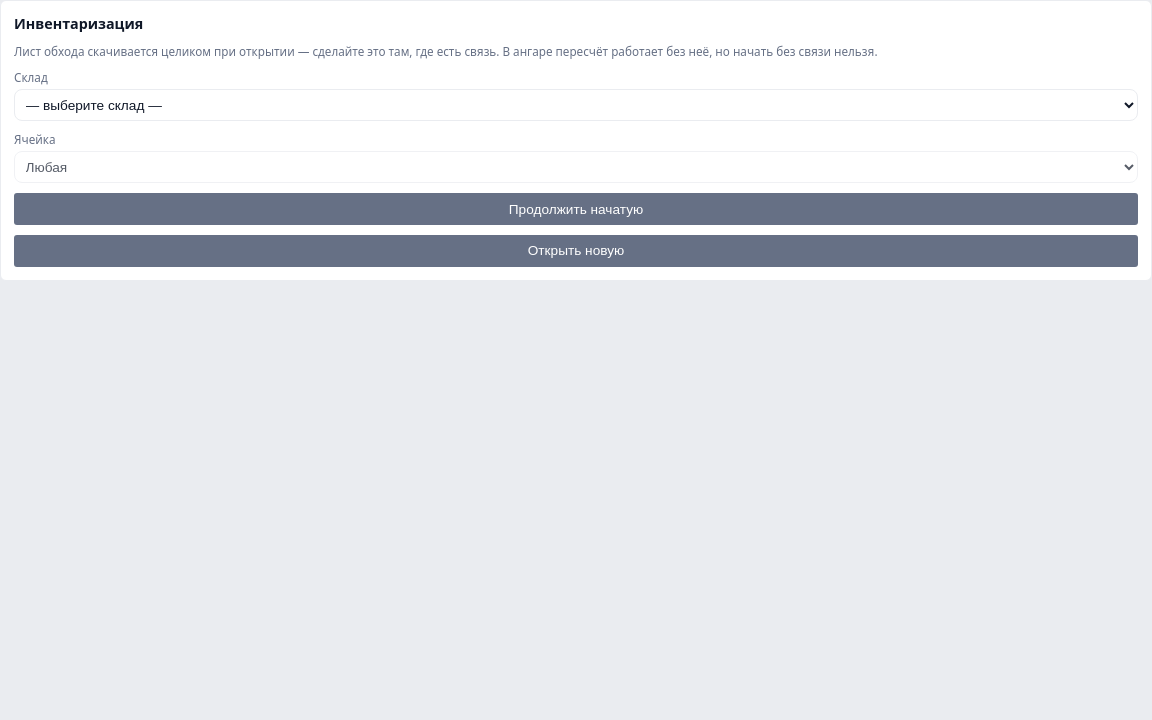
Test: группы и вкладки пересчёта › вкладка «Все» показывает три группы со своими статусами
Select "Ткацкая" in the dropdown labelled "Склад". click: (576,105)
box: [14,89,1138,121]
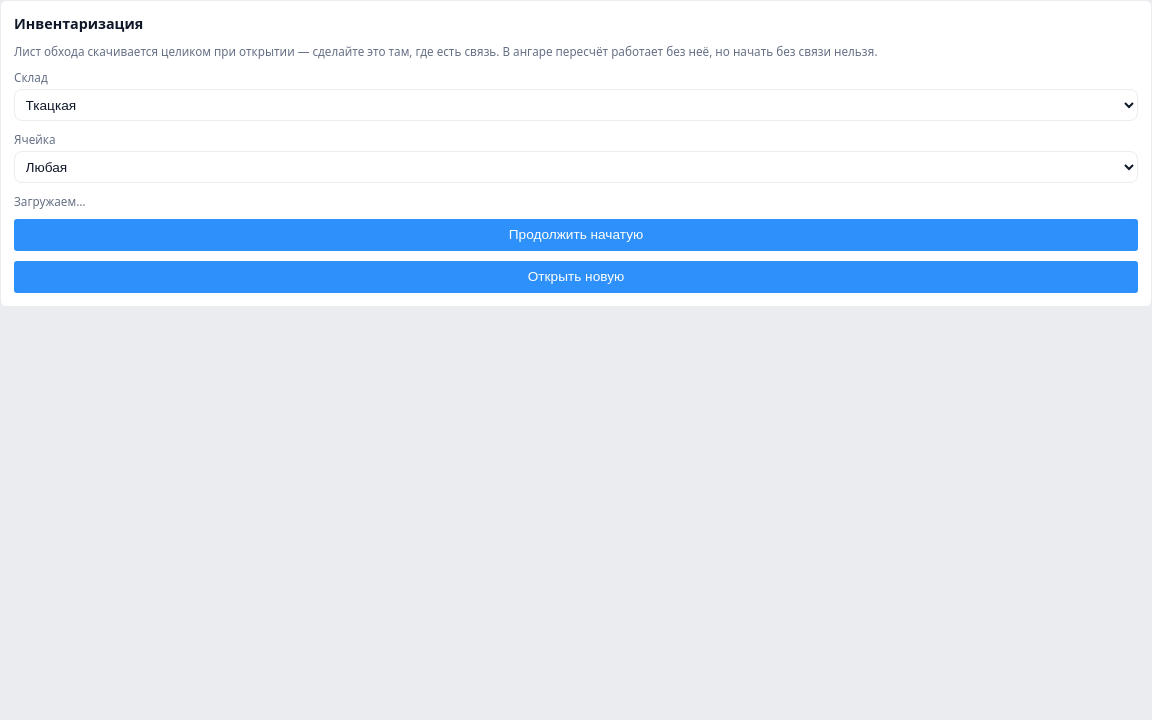
Click the button "Открыть новую". click: (576,277)
box: [14,261,1138,293]
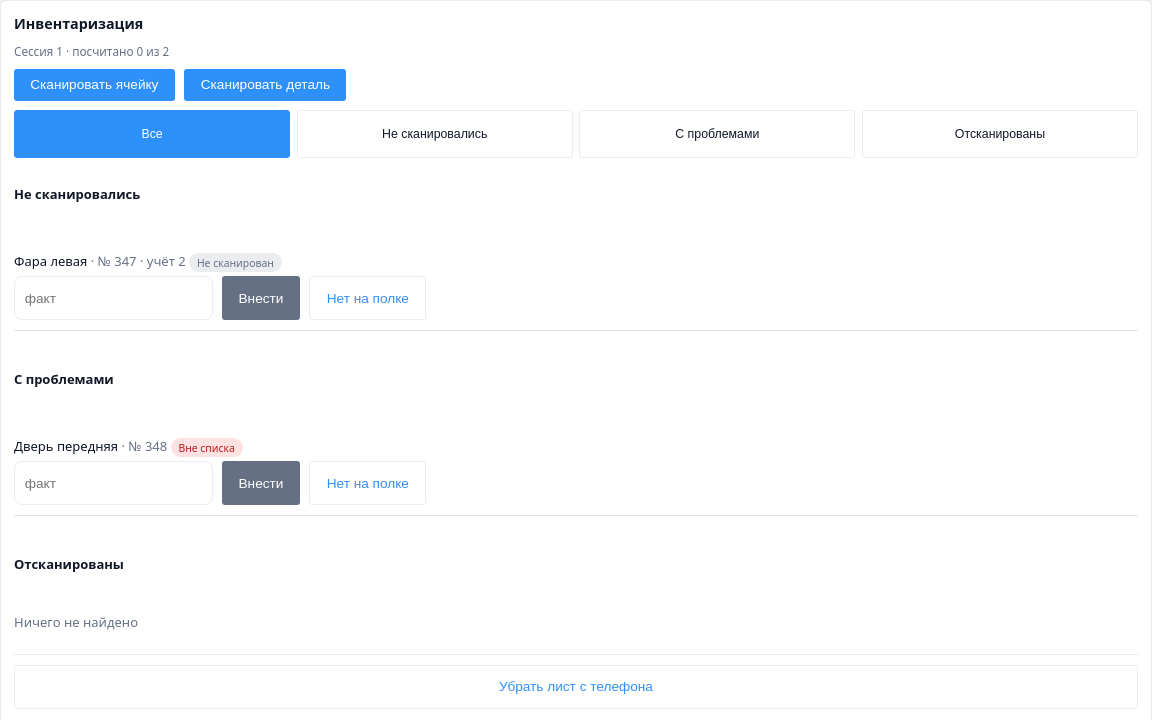
Expected: the text "Дверь передняя" is shown, [14,437,118,455]
Expected: the list item "Фара левая" shows "Не сканирован", [197,255,274,269]
Expected: the list item "Дверь передняя" shows "Вне списка", [178,440,235,454]
